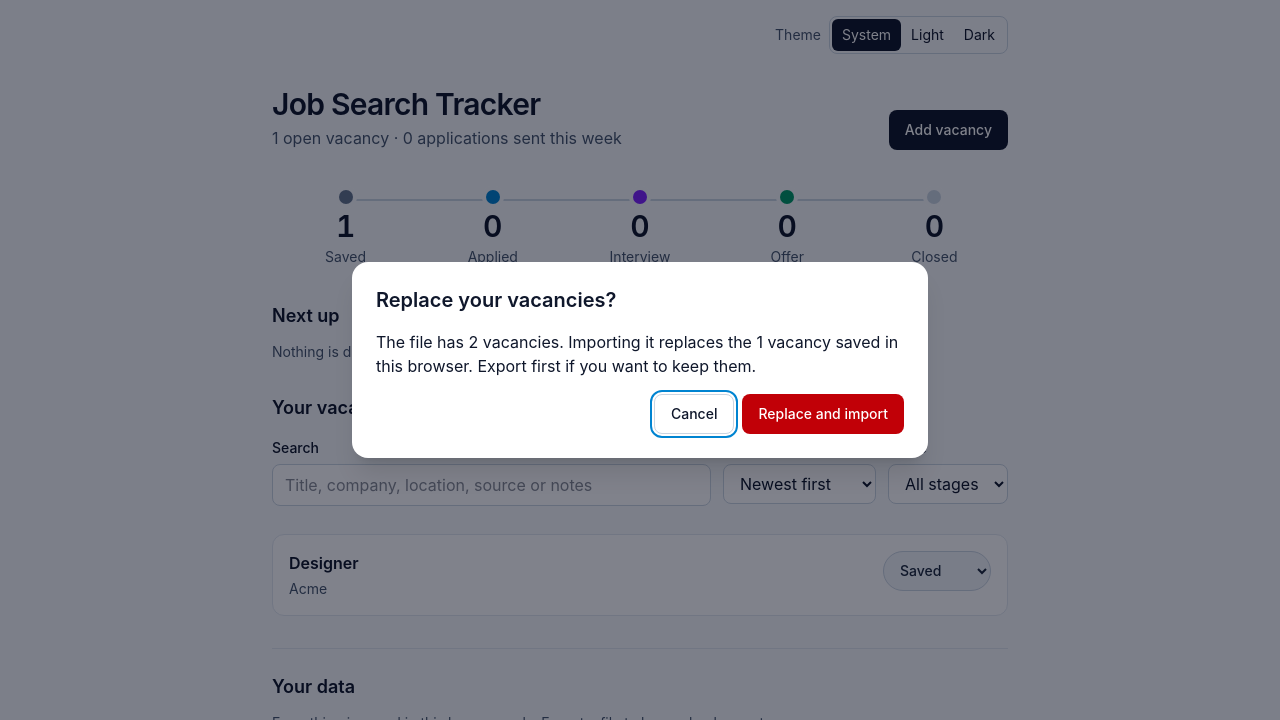
Test: Your data › imports a file after you confirm, replacing the saved vacancies
The width and height of the screenshot is (1280, 720).
Earlier steps of the test are not shown.
Expected: the button "Designer" is shown, [289, 550, 359, 574]
Click the button "Replace and import" at x=823, y=414, box [742, 394, 904, 434]
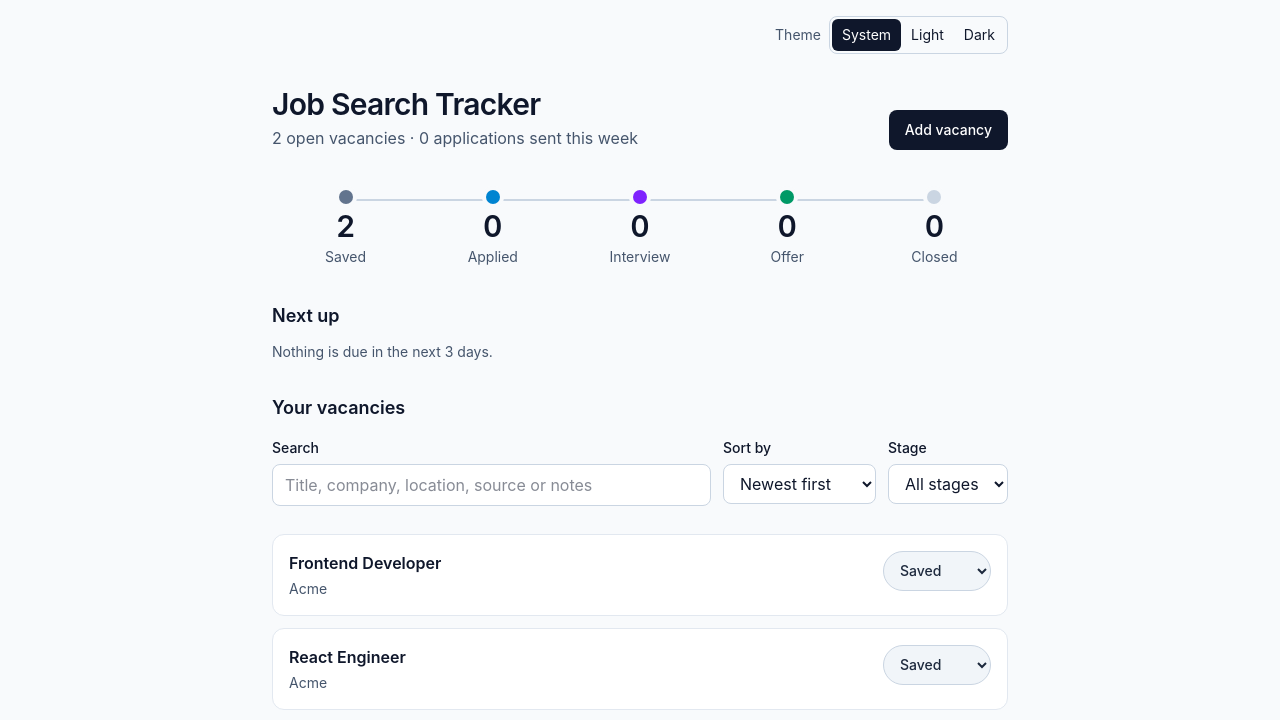
Result: the button "React Engineer" is shown at [289, 644, 406, 668]
Result: the button "Designer" is gone
